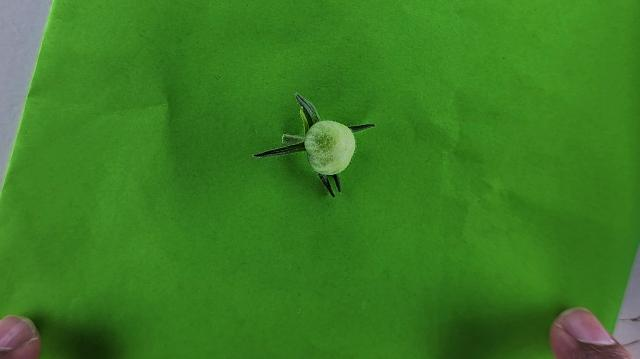Fruit Maturation: (302, 119, 357, 176)
